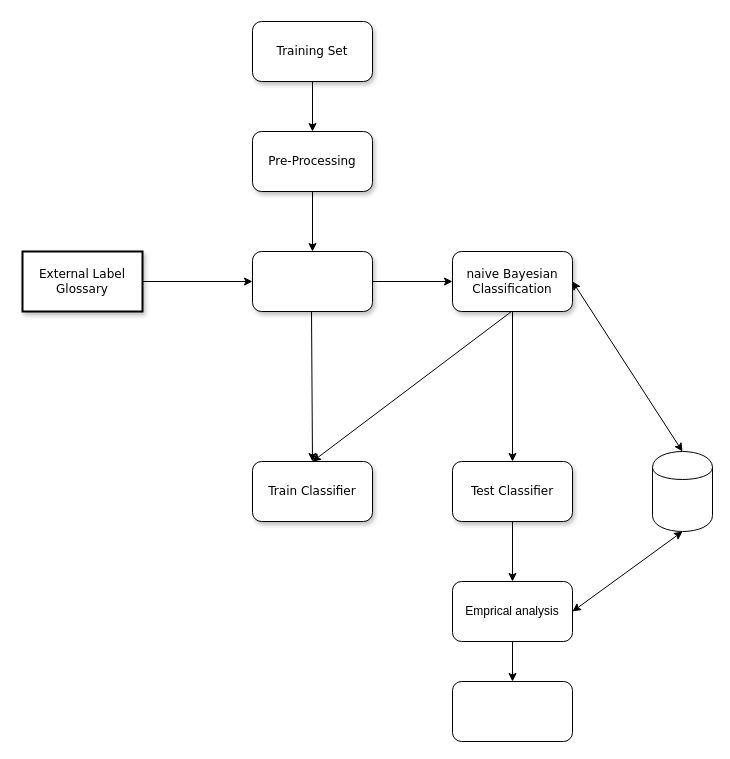
Image size: 730x759. Some labels were removed from this diagram. The centre of each missing label's shape, as x and y in pixels:
"Emprical Evaluation" belongs at point 512,711.
"Feature Extraction" belongs at point 313,282.
"Named Entity" belongs at point 682,491.
